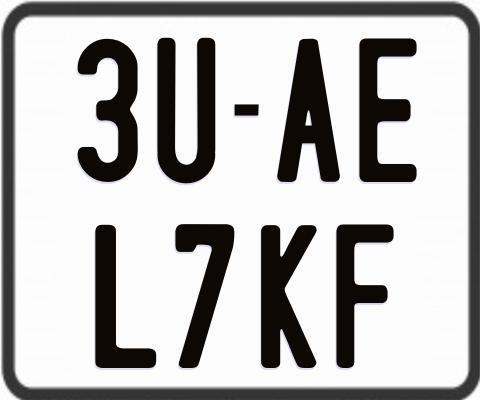3: (75, 38, 139, 182)
7: (175, 224, 235, 374)
A: (277, 38, 340, 184)
E: (357, 38, 420, 188)
F: (333, 223, 394, 368)
K: (260, 225, 321, 373)
L: (92, 224, 158, 368)
U: (154, 36, 215, 186)
